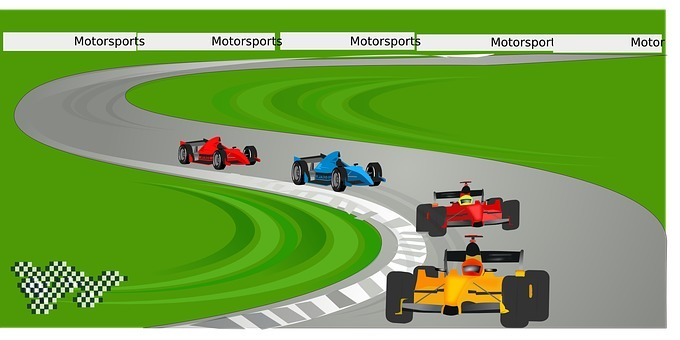car: (385, 241, 559, 329), (402, 175, 540, 239), (289, 144, 389, 193), (168, 129, 268, 177)
